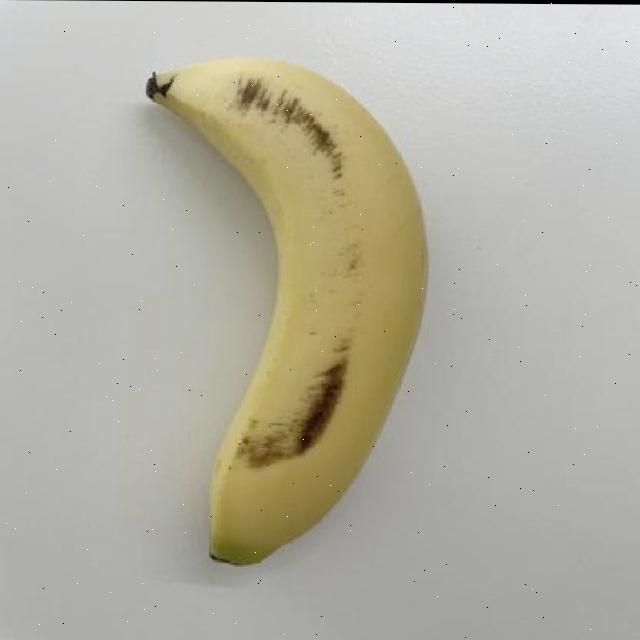banana: (138, 50, 438, 572)
